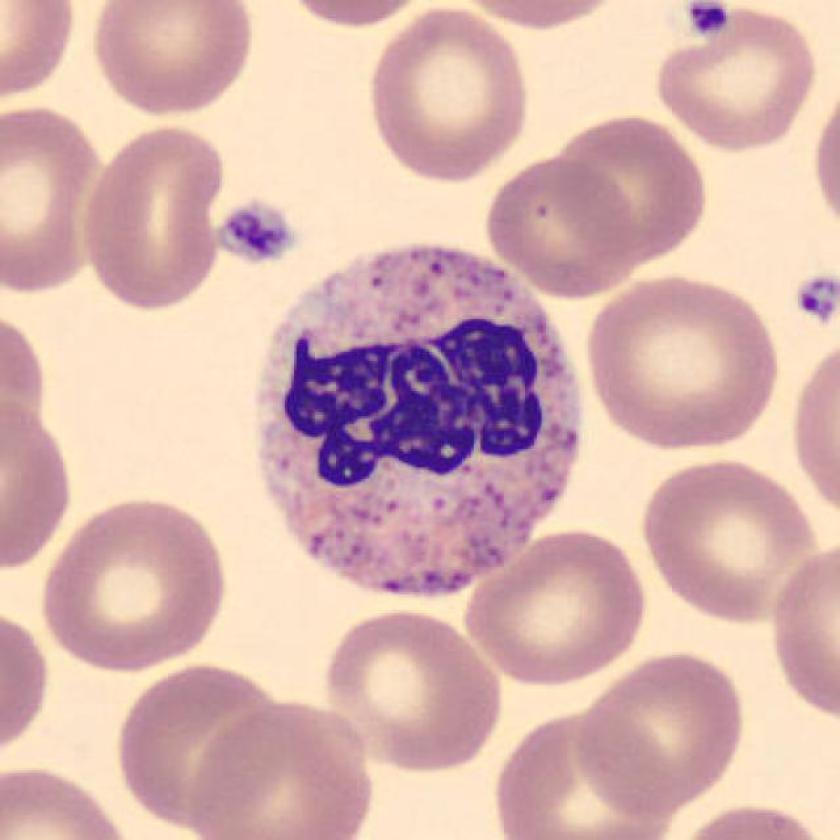neutrophil: (258, 249, 580, 601)
